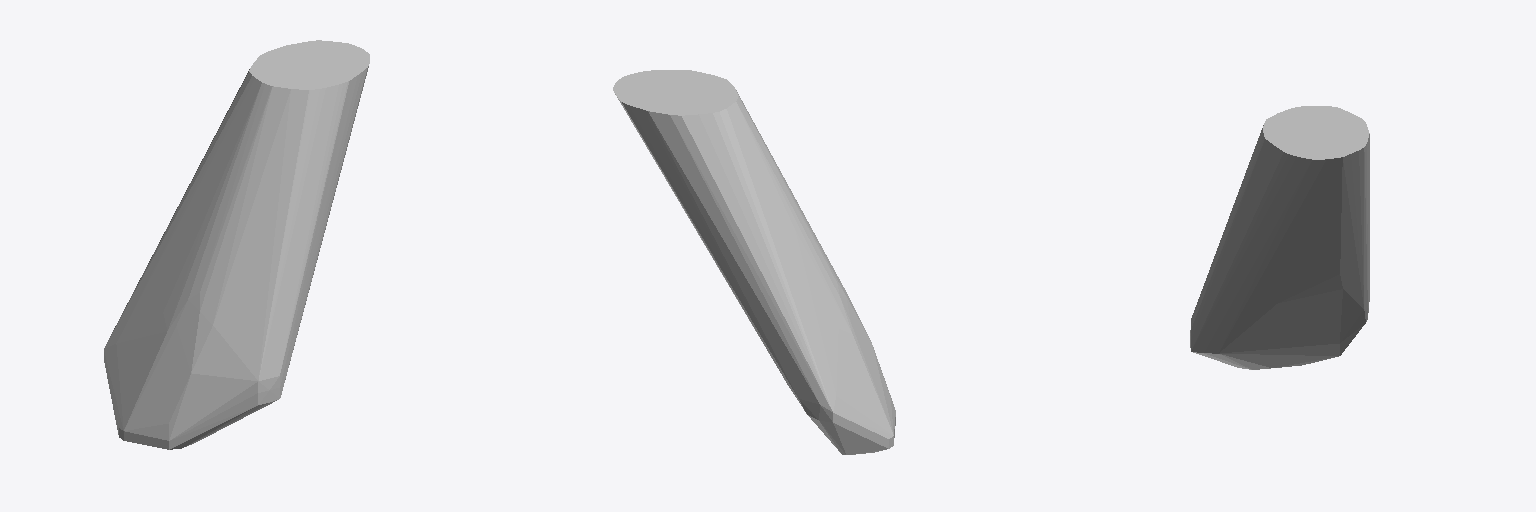
File: woman_collision_0.obj
3 renders of one model, left to right at view 1: azimuth 30°, elevation 25°; view 2: azimuth 150°, elevation 25°; view 3: azimuth 270°, elevation 25°, orthographic.
Bounding box in the file's own units: 22.23 × 26.23 × 13.39.